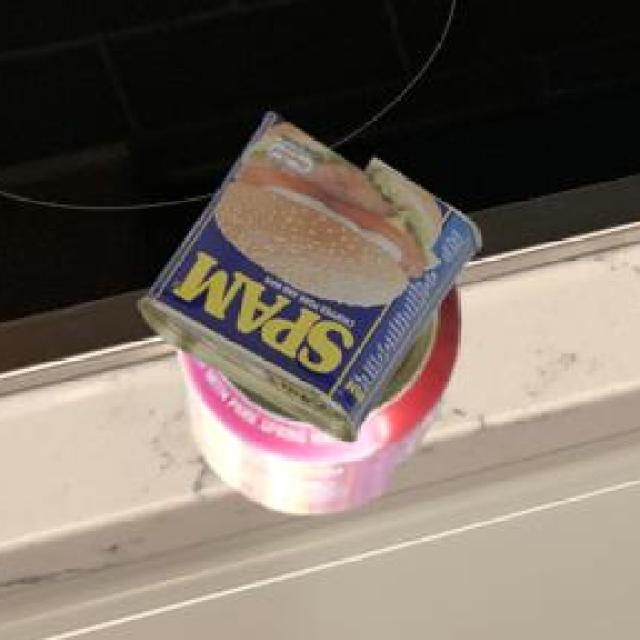logam: (134, 110, 477, 439), (174, 281, 457, 510)
